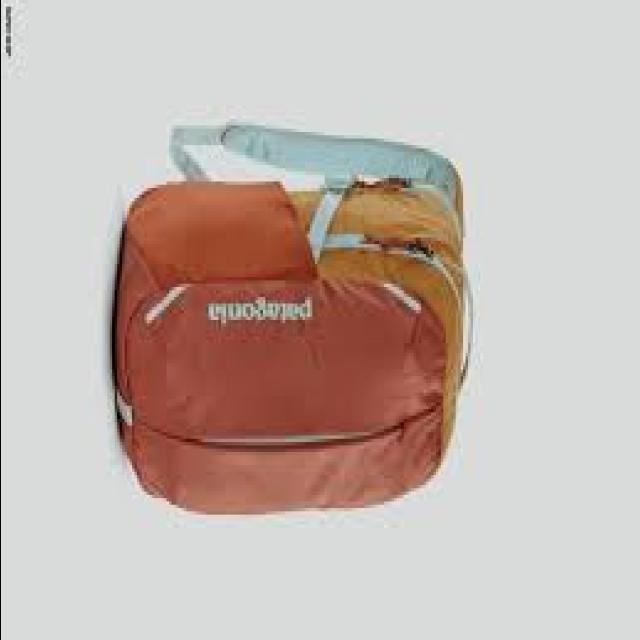backpack: (115, 120, 476, 516)
